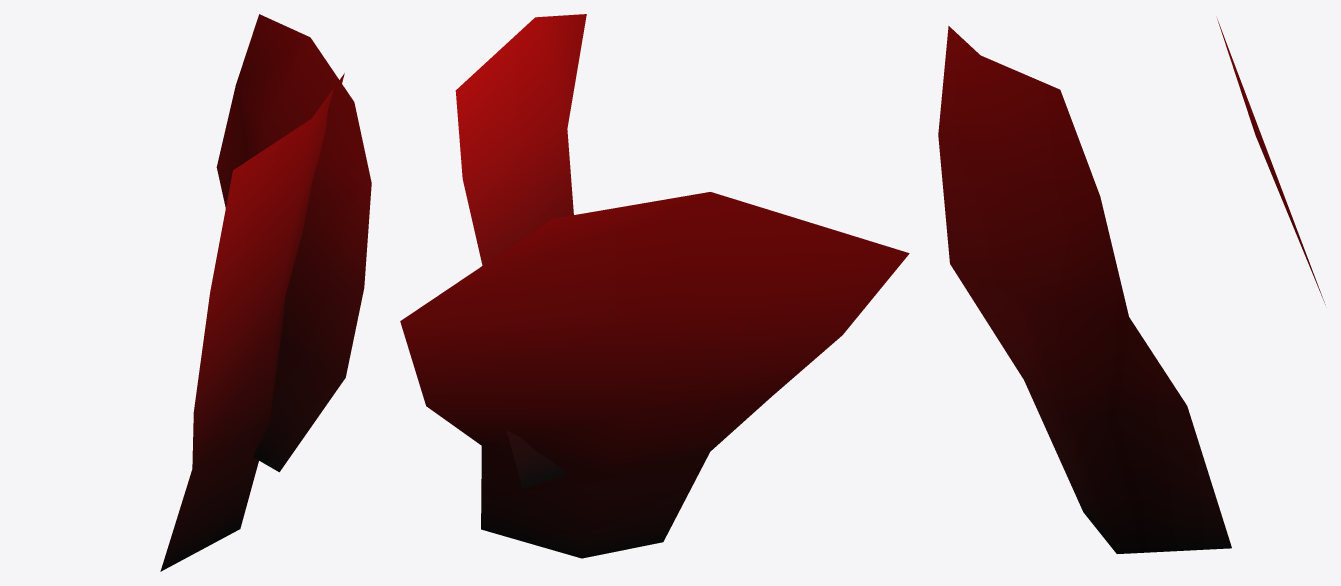
The picture shows the model from 3 angles, left to right: view 1: azimuth 30°, elevation 25°; view 2: azimuth 150°, elevation 25°; view 3: azimuth 270°, elevation 25°; orthographic projection. The views are drawn at different scales.
Parts seen in each view (by area): view 1: model5; view 2: model5; view 3: model5.
Boxes of the visible parts, left/top/right/bottom form: model5: left=160, top=14, right=371, bottom=571; model5: left=400, top=14, right=909, bottom=558; model5: left=938, top=18, right=1325, bottom=553.
Size of the model in its own units: 0.2342 by 0.3134 by 0.2018.
